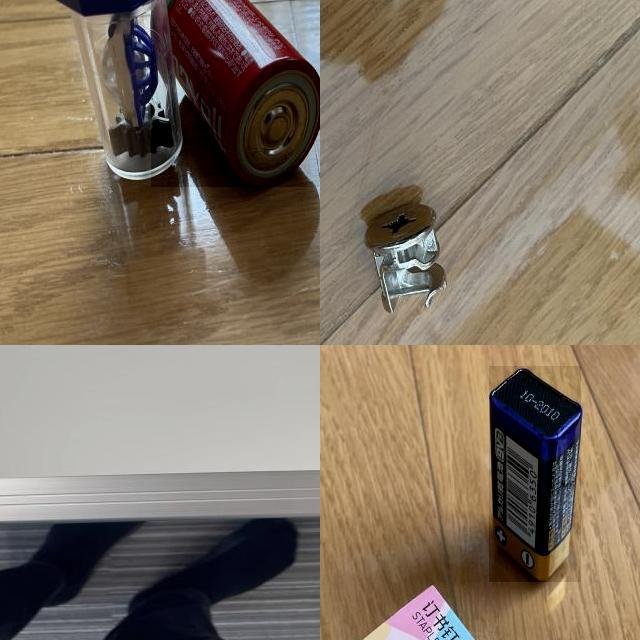9V: (489, 366, 582, 582)
